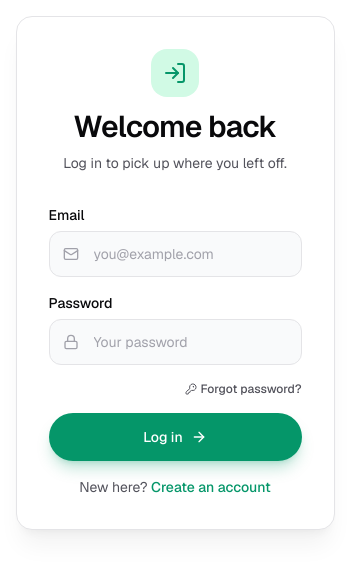
Test: LoginForm › clears an inline error when the field is fixed after blur
Click the field labelled "Email" at (175, 254), box [48,231,302,277]
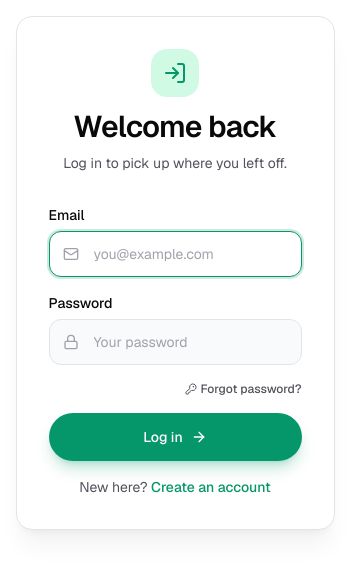
Press Tab
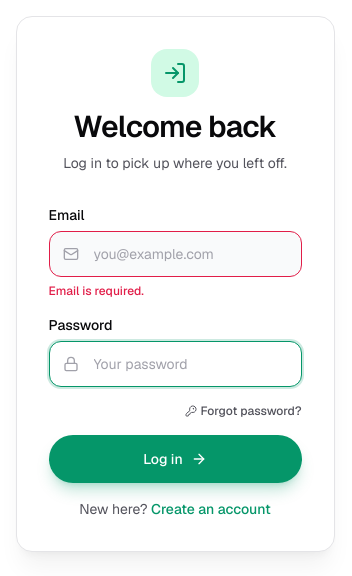
Check: the text "Email is required." is shown, box [48,283,144,299]
Type "ada@example.com" into the field labelled "Email" at (175, 254), box [48,231,302,277]
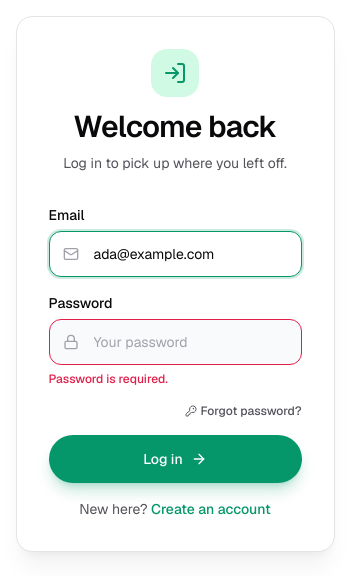
Check: the text "Email is required." is gone
